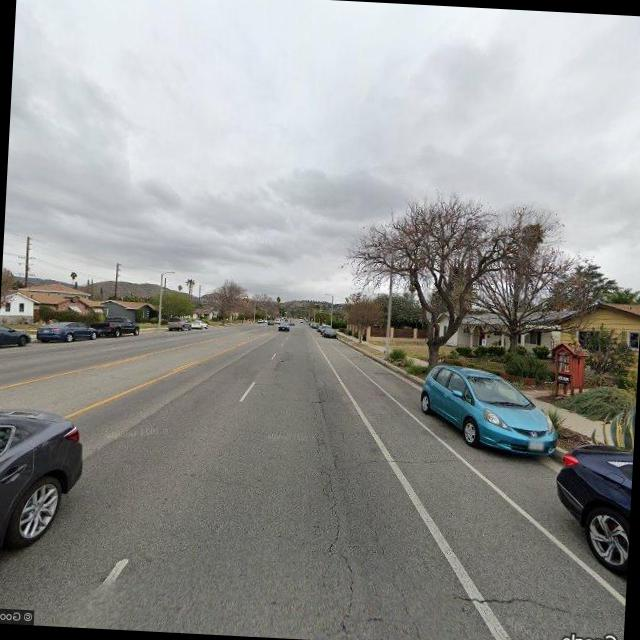crack: (302, 432, 423, 640), (452, 588, 589, 618), (354, 447, 526, 470)
